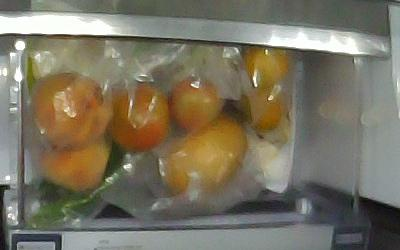peach_vinyl: (31, 72, 108, 148), (39, 134, 111, 188)
pear_vinyl: (157, 117, 247, 194)
tangerine_vinyl: (241, 87, 283, 133), (245, 45, 290, 85)
tomato_vinyl: (108, 86, 170, 150), (169, 77, 218, 128)
